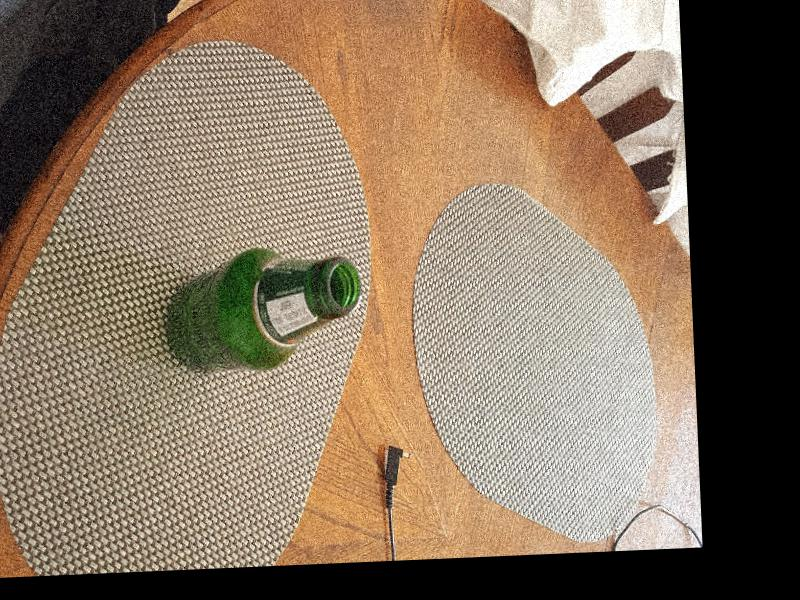Beer: (161, 242, 362, 373)
